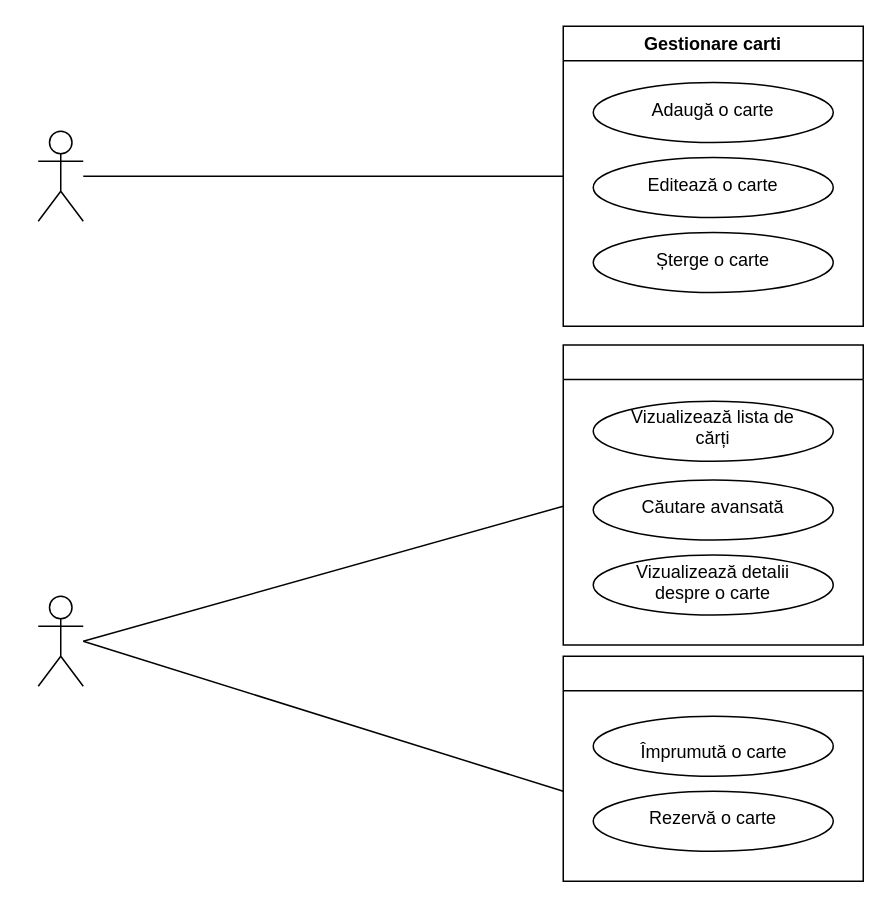
The diagram is 890 pixels wide and 908 high, and some of its shapes have lost their labels. The box of each missing label's shape, as (x1, y1, x2, y2) in pixels:
Admin: (37, 130, 83, 221)
Interactiune cu utilizatorul: (562, 655, 863, 881)
Utilizator: (37, 595, 83, 686)
Vizualizare si cautare: (562, 344, 863, 645)
